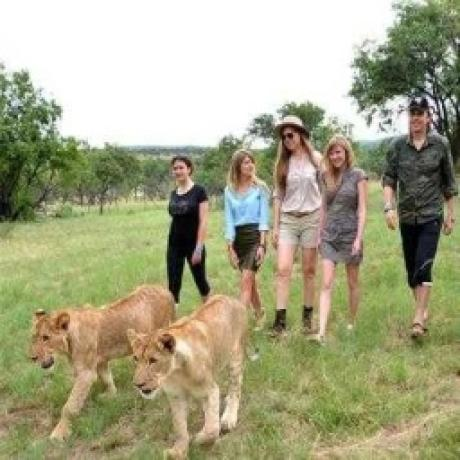Lion: (30, 288, 175, 444), (129, 289, 259, 460)
